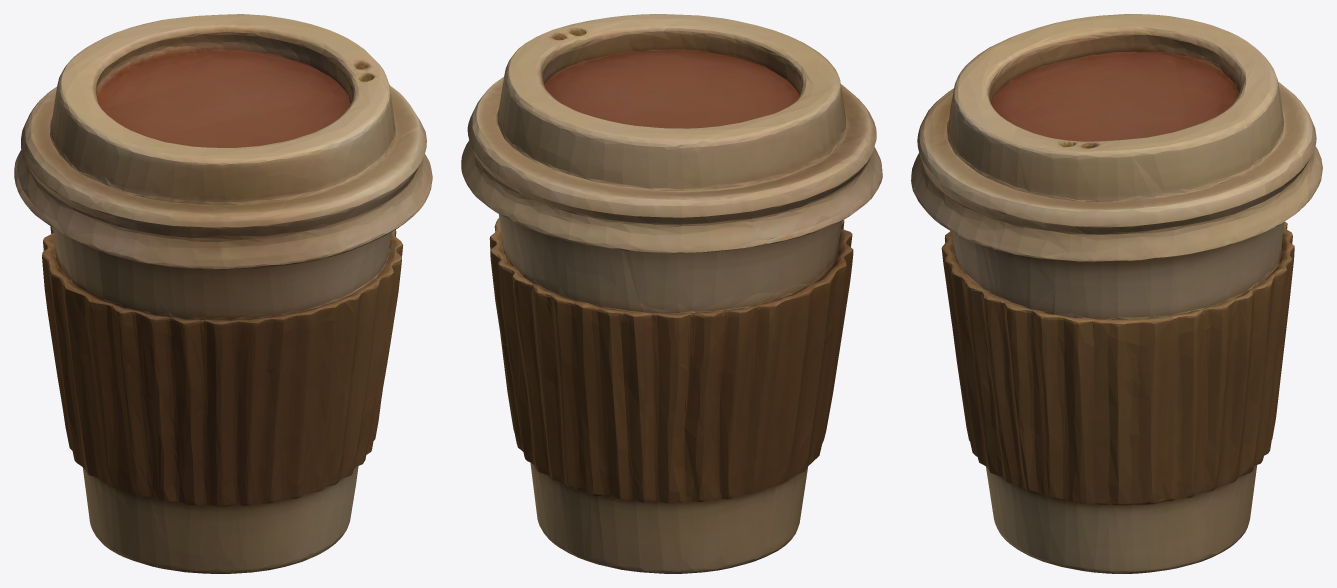
The model's file is coffee_cup.glb.
The picture shows the model from 3 angles, left to right: view 1: azimuth 30°, elevation 25°; view 2: azimuth 150°, elevation 25°; view 3: azimuth 270°, elevation 25°; orthographic projection.
Visible parts, largest first — view 1: geometry_0; view 2: geometry_0; view 3: geometry_0.
Part boxes in pixels (x1,y1,x2,y2): geometry_0: (14, 14, 432, 573); geometry_0: (461, 14, 882, 573); geometry_0: (911, 14, 1322, 573).
Bounding box in the file's own units: 0.2146 × 0.25 × 0.2118.
Materials: 1 (1 with a texture image).
